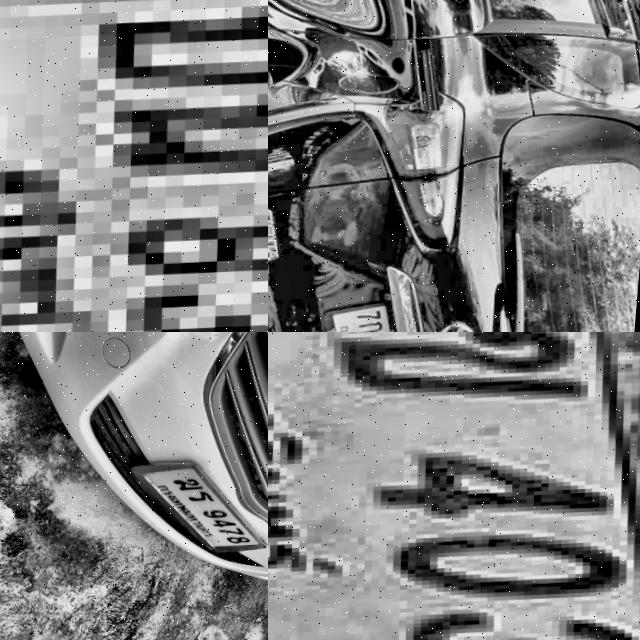license-plate: (268, 332, 640, 640), (0, 0, 268, 332), (125, 452, 268, 557), (320, 292, 422, 332)
